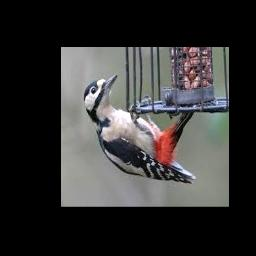Woodpecker: (83, 74, 196, 184)
